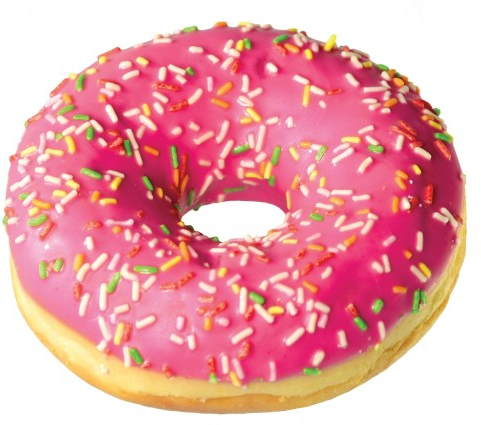donut: (1, 15, 475, 419)
